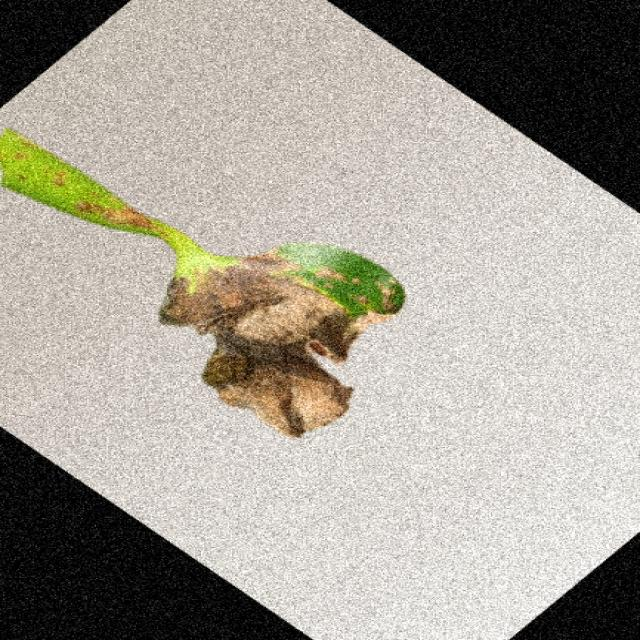daun berpenyakit karat: (0, 131, 405, 438)
